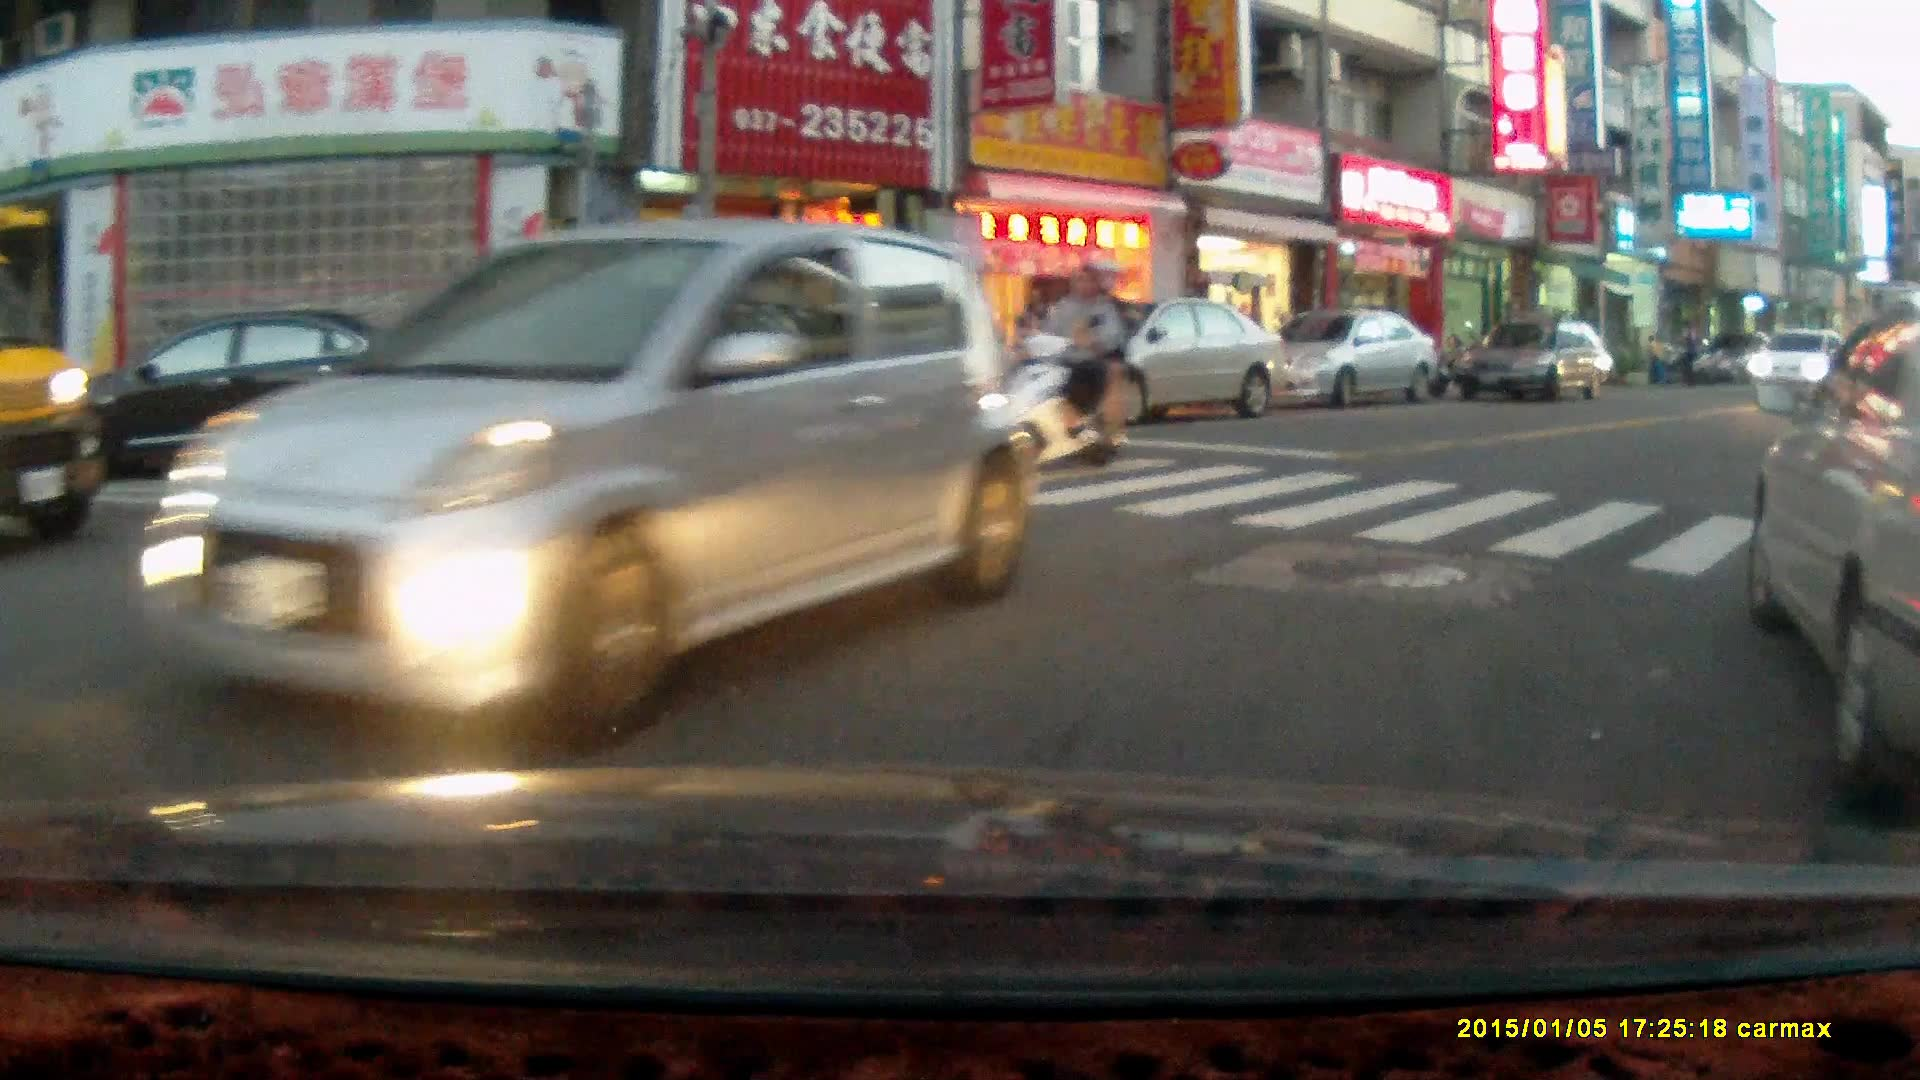rider: (972, 256, 1131, 470)
vehicle: (115, 216, 1010, 736), (1741, 302, 1920, 776), (72, 309, 457, 479), (1047, 296, 1294, 421), (1256, 308, 1444, 403), (1451, 317, 1620, 406)
